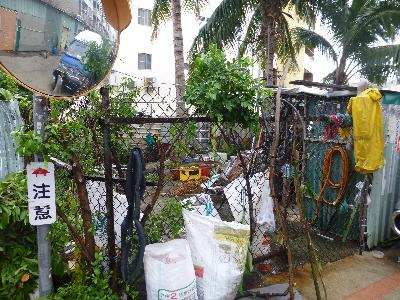plastic_bag: (182, 205, 249, 300), (143, 239, 203, 300)
